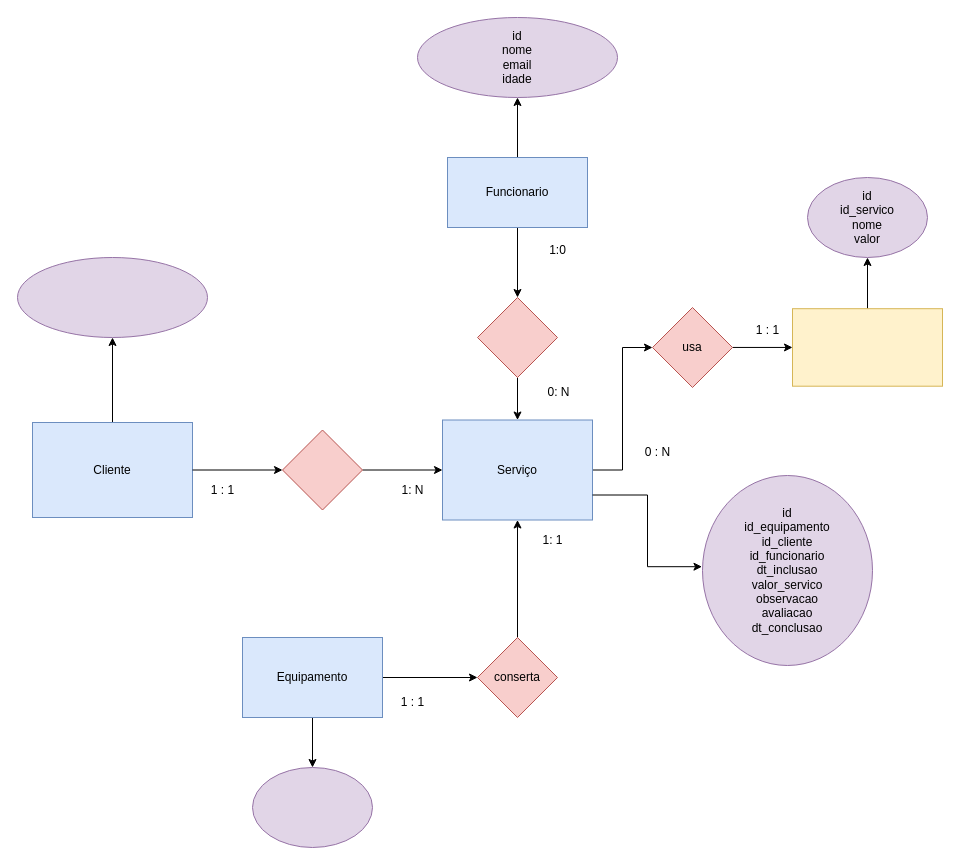
The diagram is 960 pixels wide and 865 high, and some of its shapes have lost their labels. The centre of each missing label's shape, as x and y in pixels:
"atende" belongs at (x=517, y=337).
"id modelo cor marca" belongs at (x=312, y=807).
"id nome numero cpf cep" belongs at (x=112, y=297).
"Peça" belongs at (x=867, y=347).
"Solicita" belongs at (x=322, y=469).
